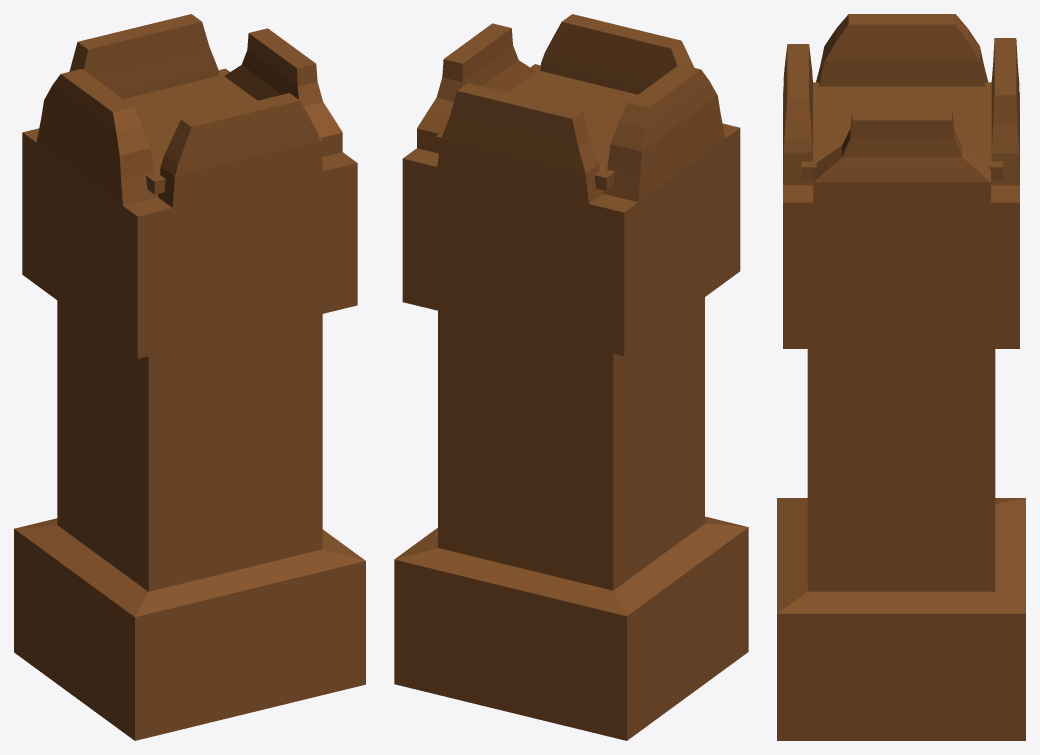
Rendered from structure.fbx.
3 views of the same model, side by side, from view 1: azimuth 30°, elevation 25°; view 2: azimuth 150°, elevation 25°; view 3: azimuth 270°, elevation 25° (orthographic). The views are drawn at different scales.
Parts seen in each view (by area): view 1: Cube; view 2: Cube; view 3: Cube.
Boxes of the visible parts, x1=… form: Cube: x1=14, y1=14, x2=365, y2=740; Cube: x1=394, y1=14, x2=748, y2=740; Cube: x1=777, y1=14, x2=1025, y2=740.
Size of the model in its own units: 391 by 970 by 354.
